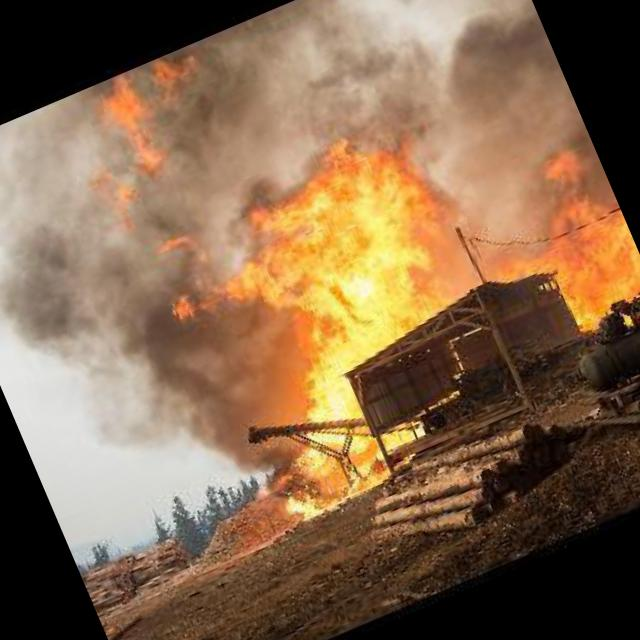fire: (112, 110, 522, 510), (447, 114, 640, 382), (46, 44, 255, 244), (281, 453, 390, 519)
